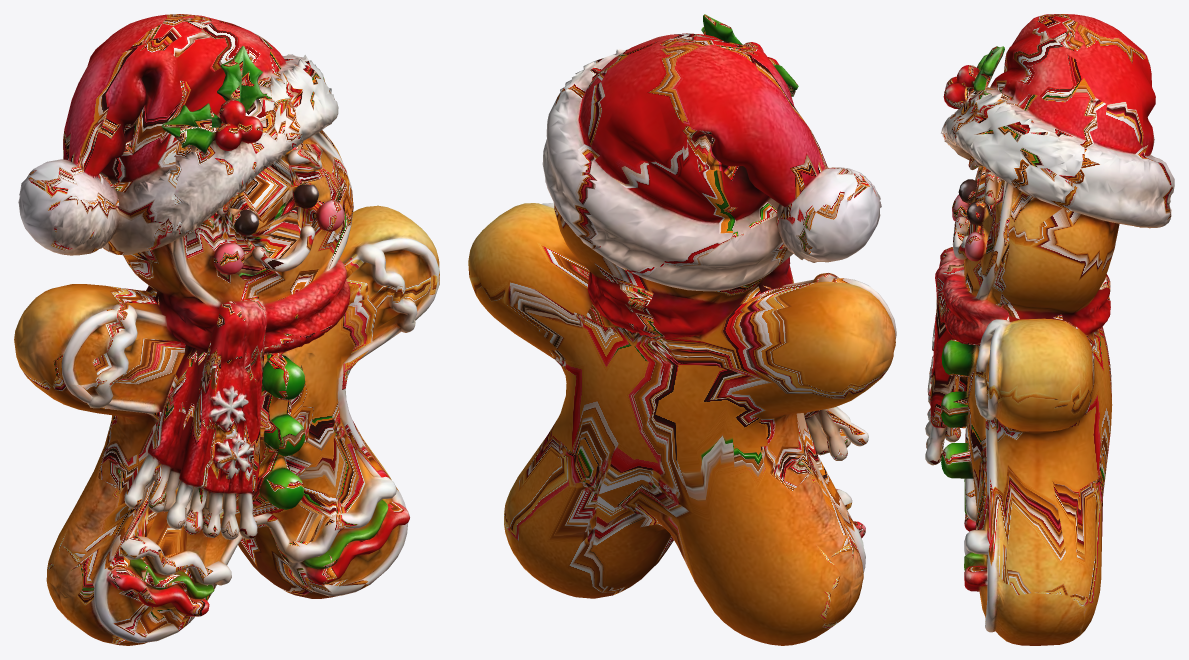
Rendered from gingerbread.glb.
3 views of the same model, side by side, from view 1: azimuth 30°, elevation 25°; view 2: azimuth 150°, elevation 25°; view 3: azimuth 270°, elevation 25° (orthographic). The views are drawn at different scales.
Visible parts, largest first — view 1: tripo_node_a795cde6-48e9-49f0-ba97-f0c062910370; view 2: tripo_node_a795cde6-48e9-49f0-ba97-f0c062910370; view 3: tripo_node_a795cde6-48e9-49f0-ba97-f0c062910370.
Boxes of the visible parts, x1,y1,x2,y2 form: tripo_node_a795cde6-48e9-49f0-ba97-f0c062910370: (14, 14, 439, 645); tripo_node_a795cde6-48e9-49f0-ba97-f0c062910370: (468, 14, 896, 645); tripo_node_a795cde6-48e9-49f0-ba97-f0c062910370: (925, 14, 1174, 645).
Bounding box in the file's own units: 0.6984 × 0.9791 × 0.3996.
Materials: 1 (1 with a texture image).
